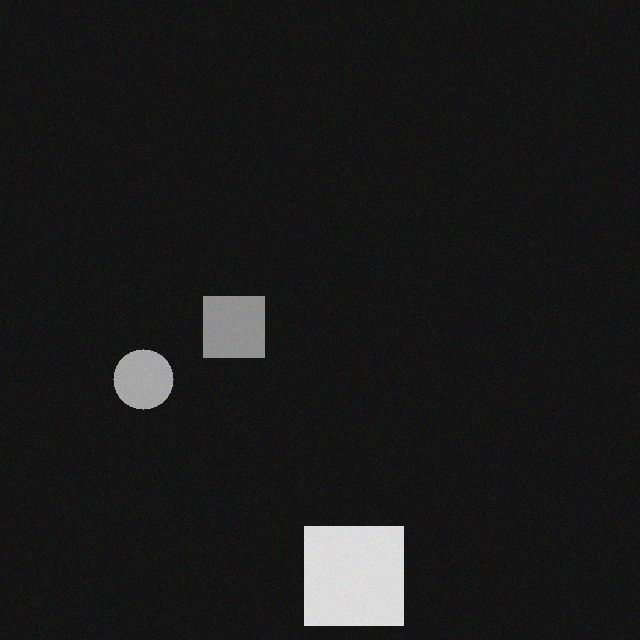circle: (116, 341, 176, 401)
square: (307, 518, 406, 617), (206, 288, 267, 349)
